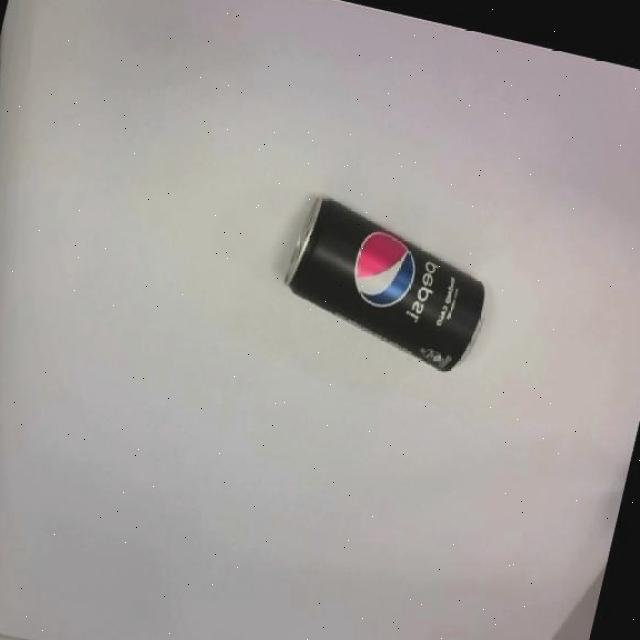debris: (270, 190, 500, 378)
